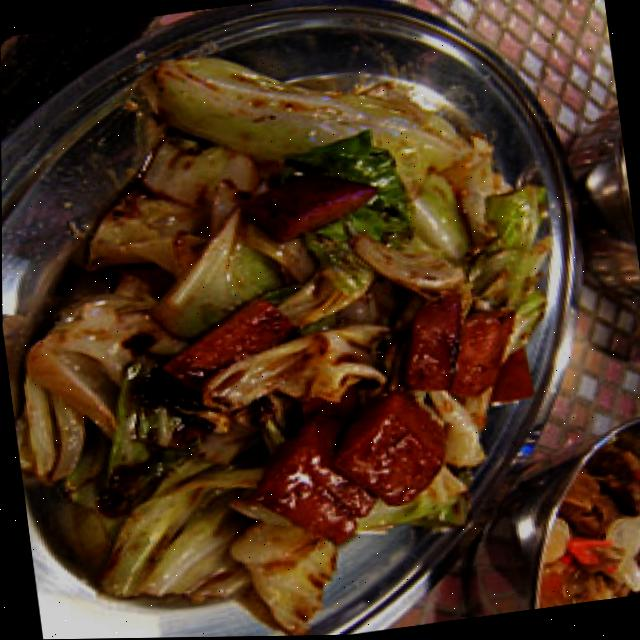蔬菜料理: (0, 18, 621, 640)
